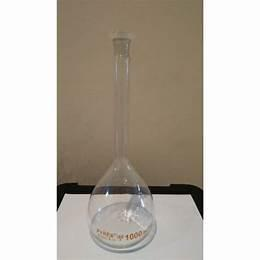Volumetric flask: (83, 16, 163, 251)
